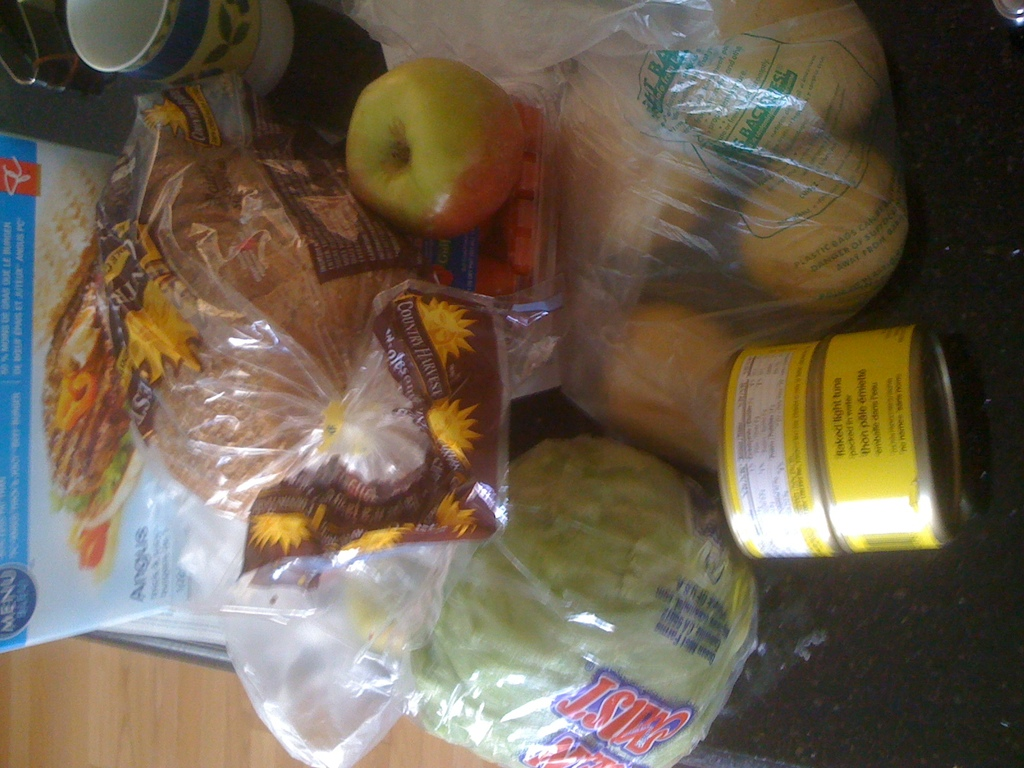Apple: (325, 55, 532, 240)
